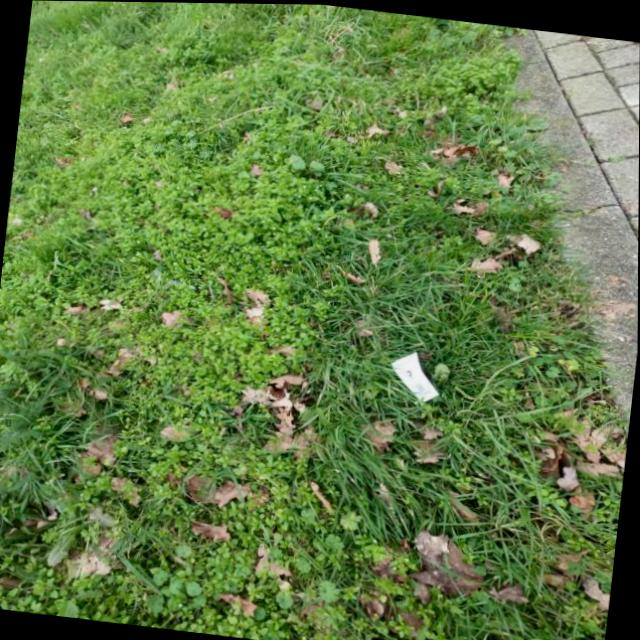Paper: (387, 345, 446, 404)
